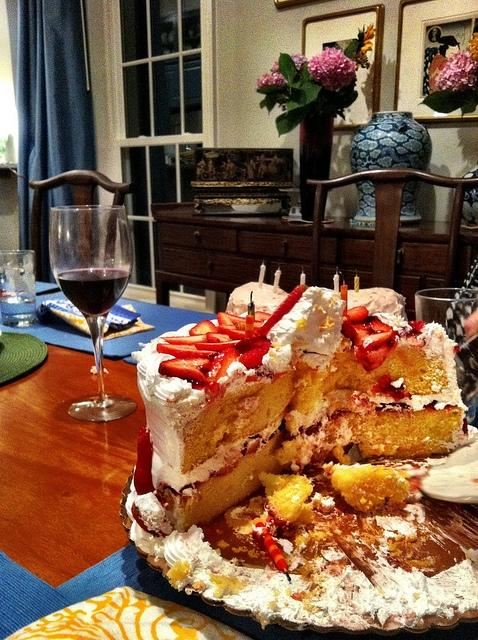strawberry: (254, 285, 307, 340), (356, 331, 401, 372), (158, 356, 212, 389), (206, 348, 240, 382), (156, 343, 218, 358), (216, 312, 264, 328), (238, 349, 268, 370), (159, 334, 209, 346), (194, 340, 242, 352), (228, 328, 261, 344), (189, 320, 217, 336), (351, 322, 372, 340), (348, 306, 368, 322), (368, 320, 392, 332), (206, 332, 232, 343), (254, 311, 272, 321), (408, 320, 426, 330)
